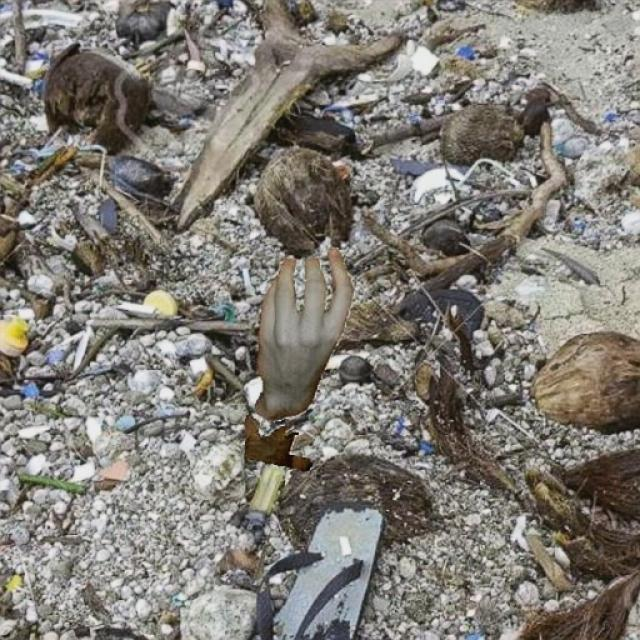Person in Rubble: (245, 246, 354, 470)
